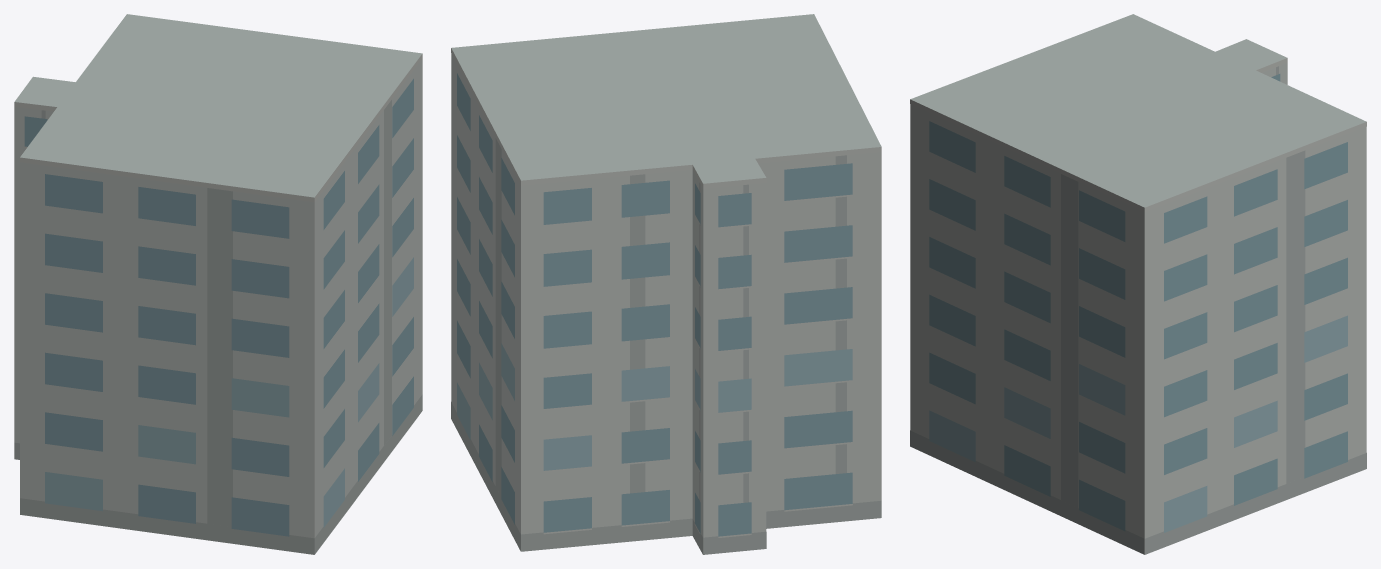
The model's file is survey-upis-32994096.glb.
3 renders of one model, left to right at view 1: azimuth 30°, elevation 25°; view 2: azimuth 150°, elevation 25°; view 3: azimuth 270°, elevation 25°, orthographic. The views are drawn at different scales.
Parts seen in each view (by area): view 1: survey-upis-32994096.tmp; view 2: survey-upis-32994096.tmp; view 3: survey-upis-32994096.tmp.
Part boxes in pixels (x1,y1,x2,y2): survey-upis-32994096.tmp: [14, 14, 422, 554]; survey-upis-32994096.tmp: [451, 14, 881, 554]; survey-upis-32994096.tmp: [910, 14, 1366, 554].
Size of the model in its own units: 21.07 by 17.6 by 20.99.
